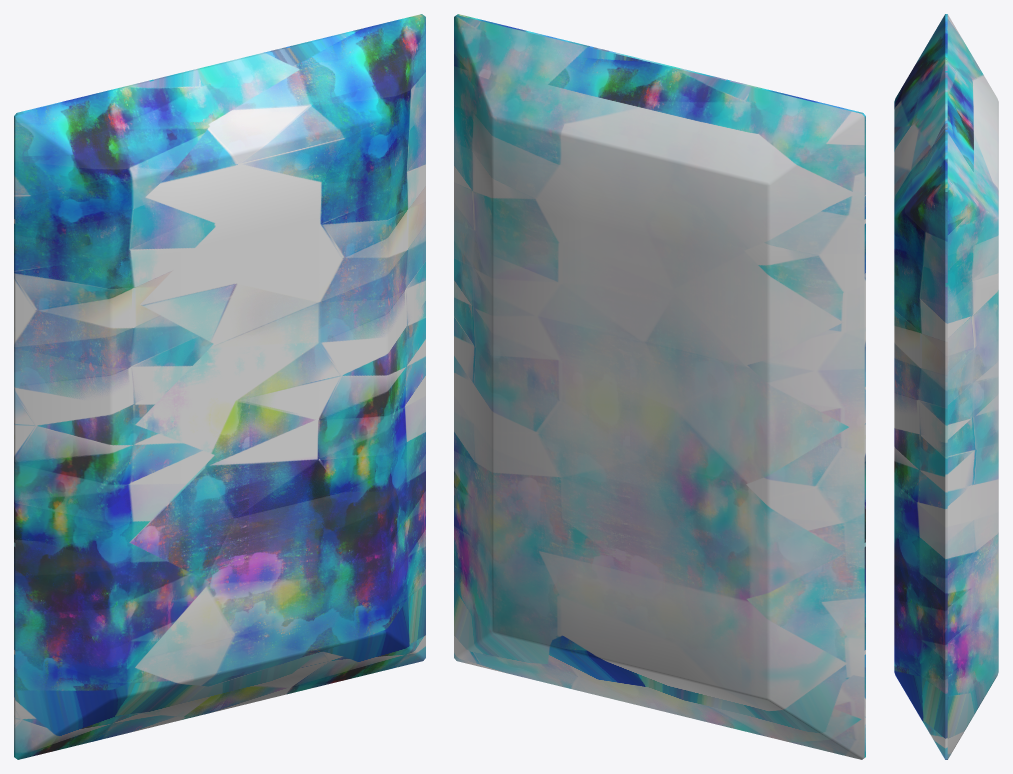
The model's file is Jewelry Type 6.glb.
3 renders of one model, left to right at view 1: azimuth 30°, elevation 25°; view 2: azimuth 150°, elevation 25°; view 3: azimuth 270°, elevation 25°, orthographic. The views are drawn at different scales.
Visible parts, largest first — view 1: Jewelry004_M_Jewelry001_0; view 2: Jewelry004_M_Jewelry001_0; view 3: Jewelry004_M_Jewelry001_0.
Boxes of the visible parts, x1,y1,x2,y2 form: Jewelry004_M_Jewelry001_0: (14, 14, 425, 759); Jewelry004_M_Jewelry001_0: (454, 14, 865, 759); Jewelry004_M_Jewelry001_0: (894, 14, 998, 759).
Bounding box in the file's own units: 0.632 × 0.9505 × 0.1577.
1 material, 1 textured.
